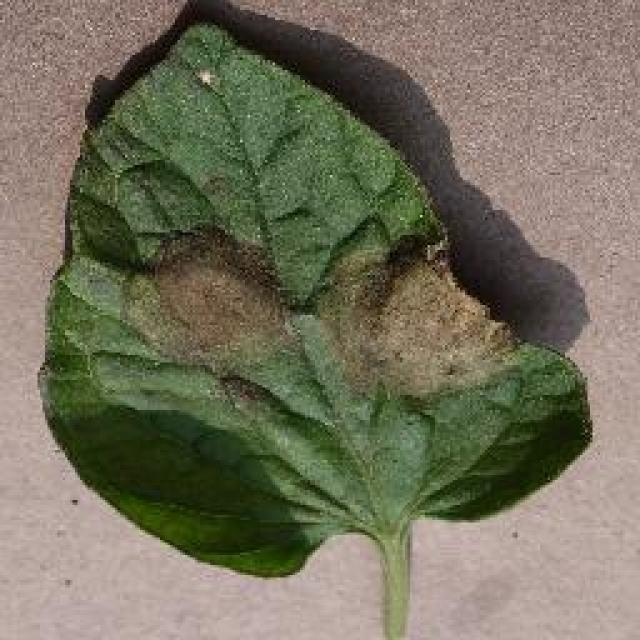Tomato late blight leaf: (42, 20, 596, 582)
